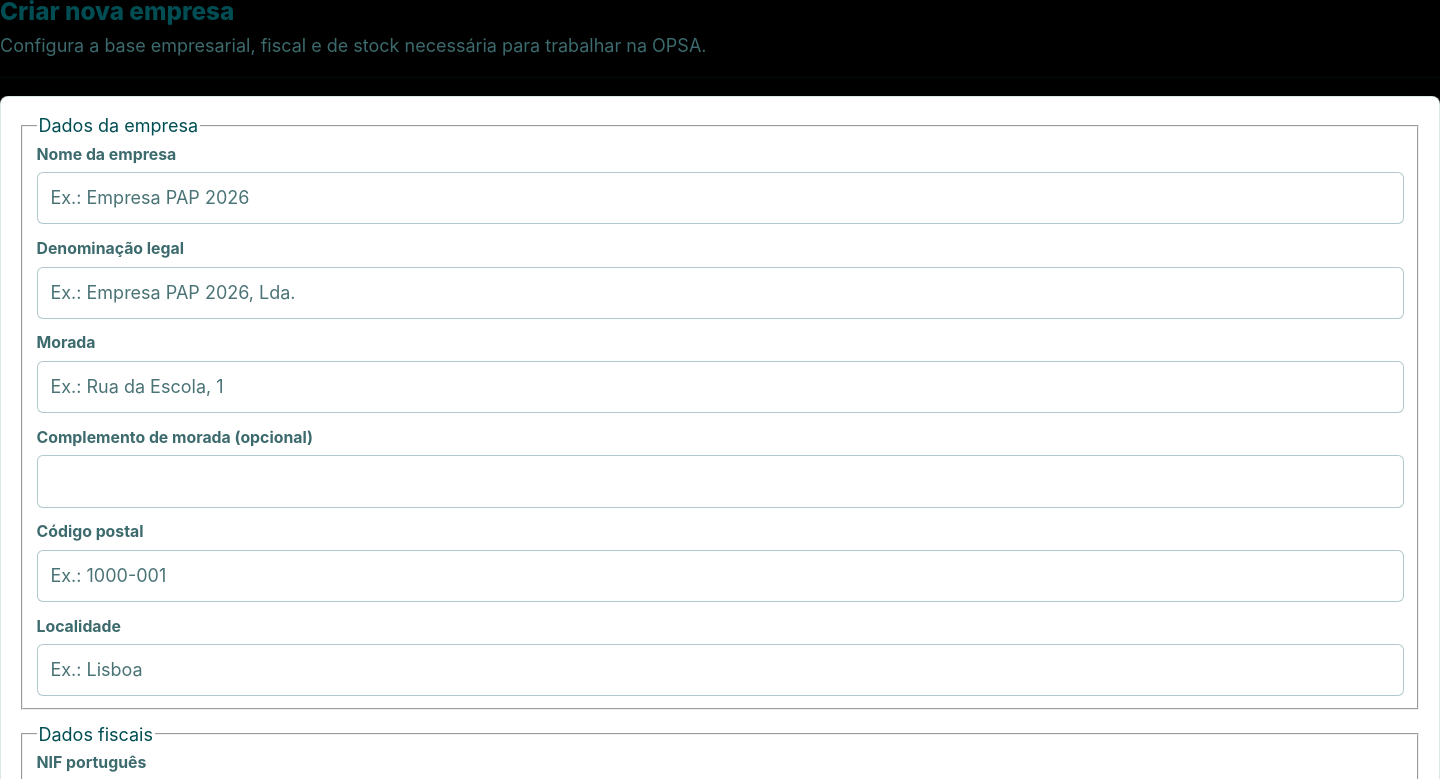
usa POST /companies no modo adicional sem preparar dados por omissão
Type "Empresa PAP 2026" into the field labelled "Nome da empresa" at (720, 198), box 36,172 -> 1404,224
Type "Empresa PAP 2026, Lda." into the field labelled "Denominação legal" at (720, 293), box 36,267 -> 1404,319
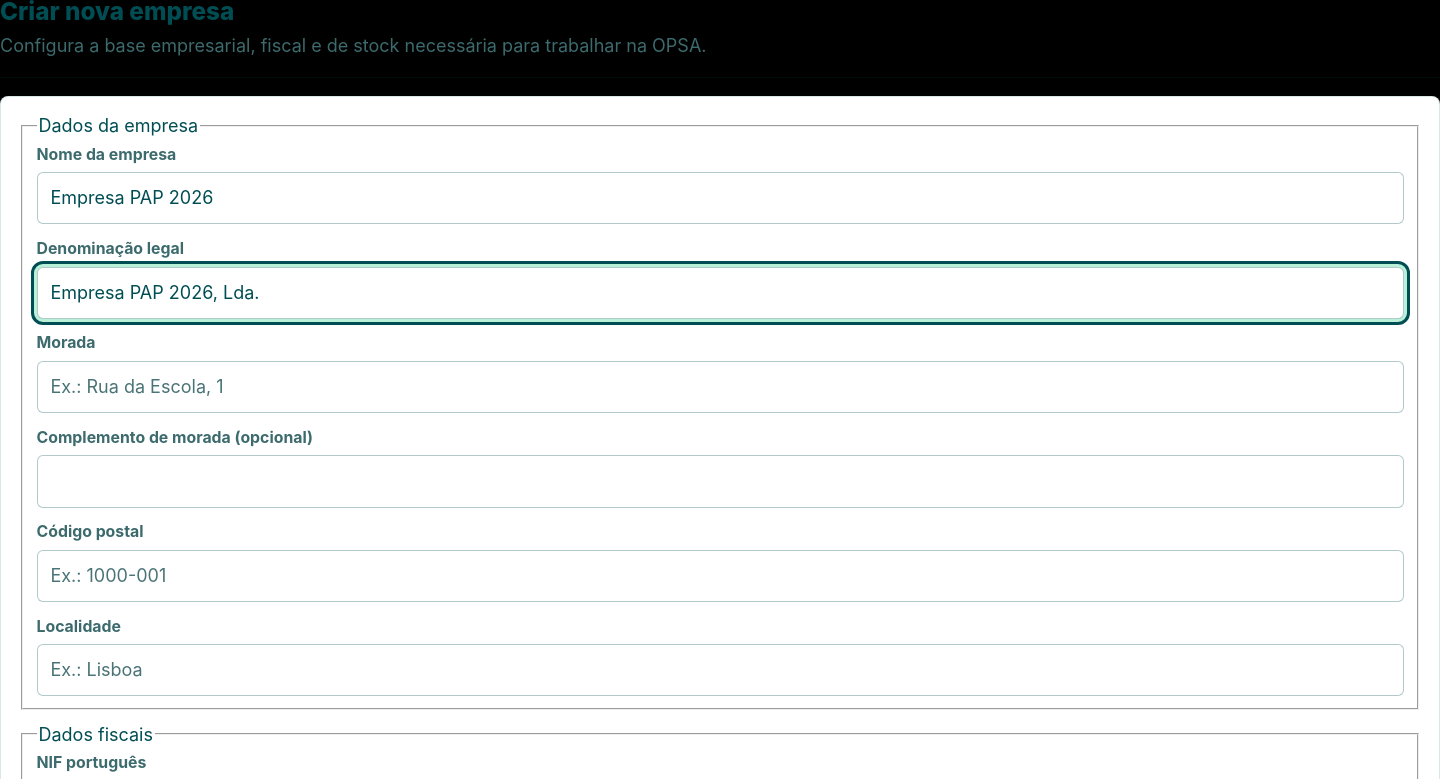
Type "Rua da Escola, 1" into the field labelled "Morada" at (720, 387), box 36,361 -> 1404,413
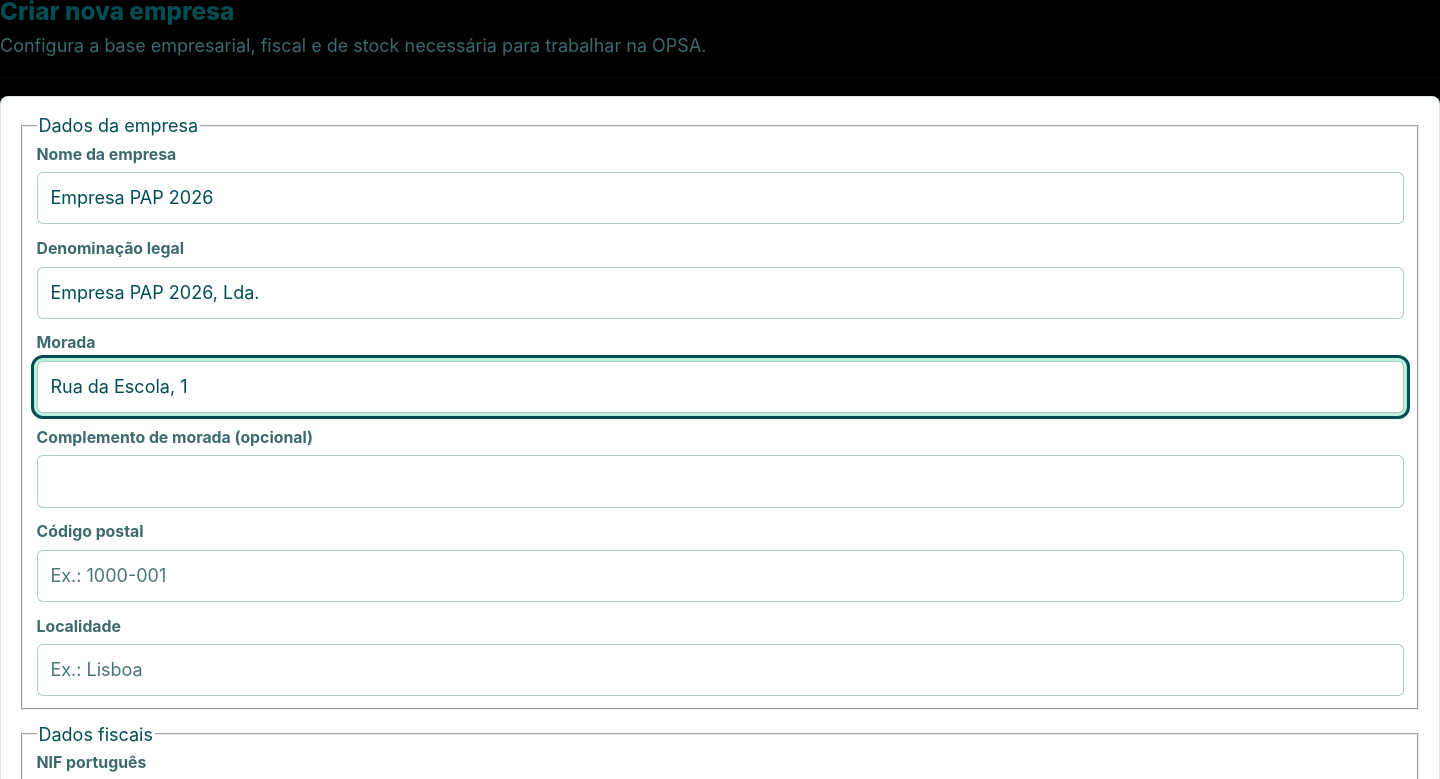
Type "1000-001" into the field labelled "Código postal" at (720, 576), box 36,550 -> 1404,602
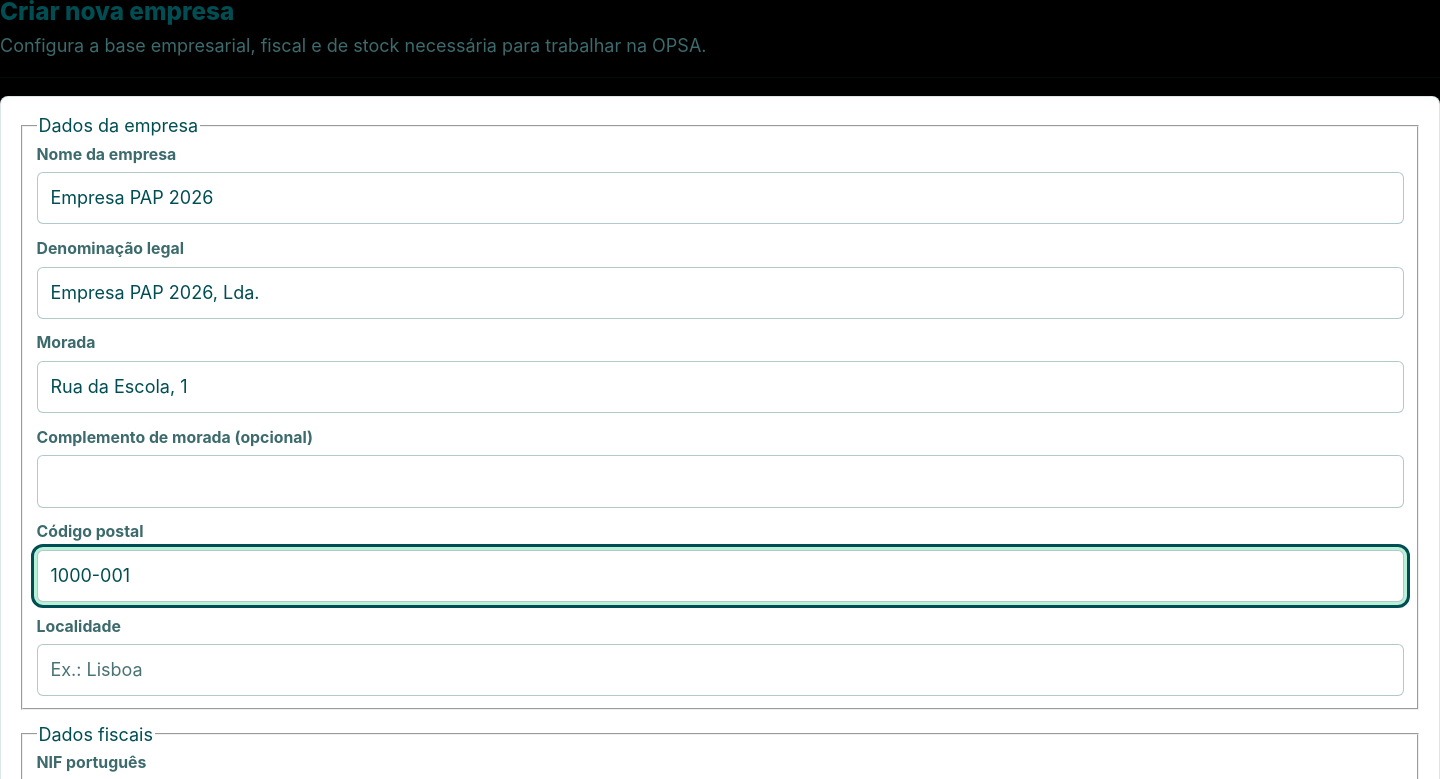
Type "Lisboa" into the field labelled "Localidade" at (720, 670), box 36,644 -> 1404,696
(page scrolled)
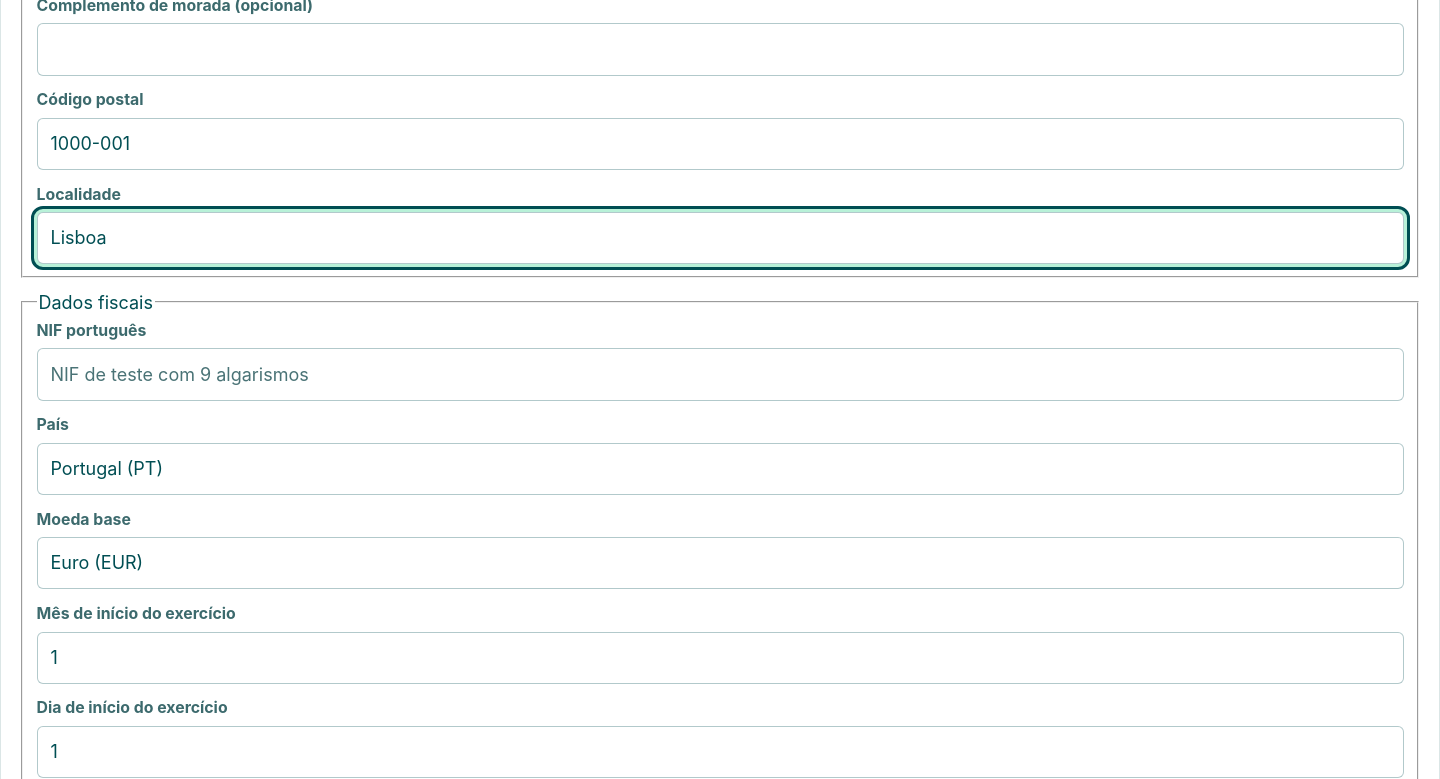
Type "509442013" into the field labelled "NIF português" at (720, 374), box 36,348 -> 1404,401
(page scrolled)
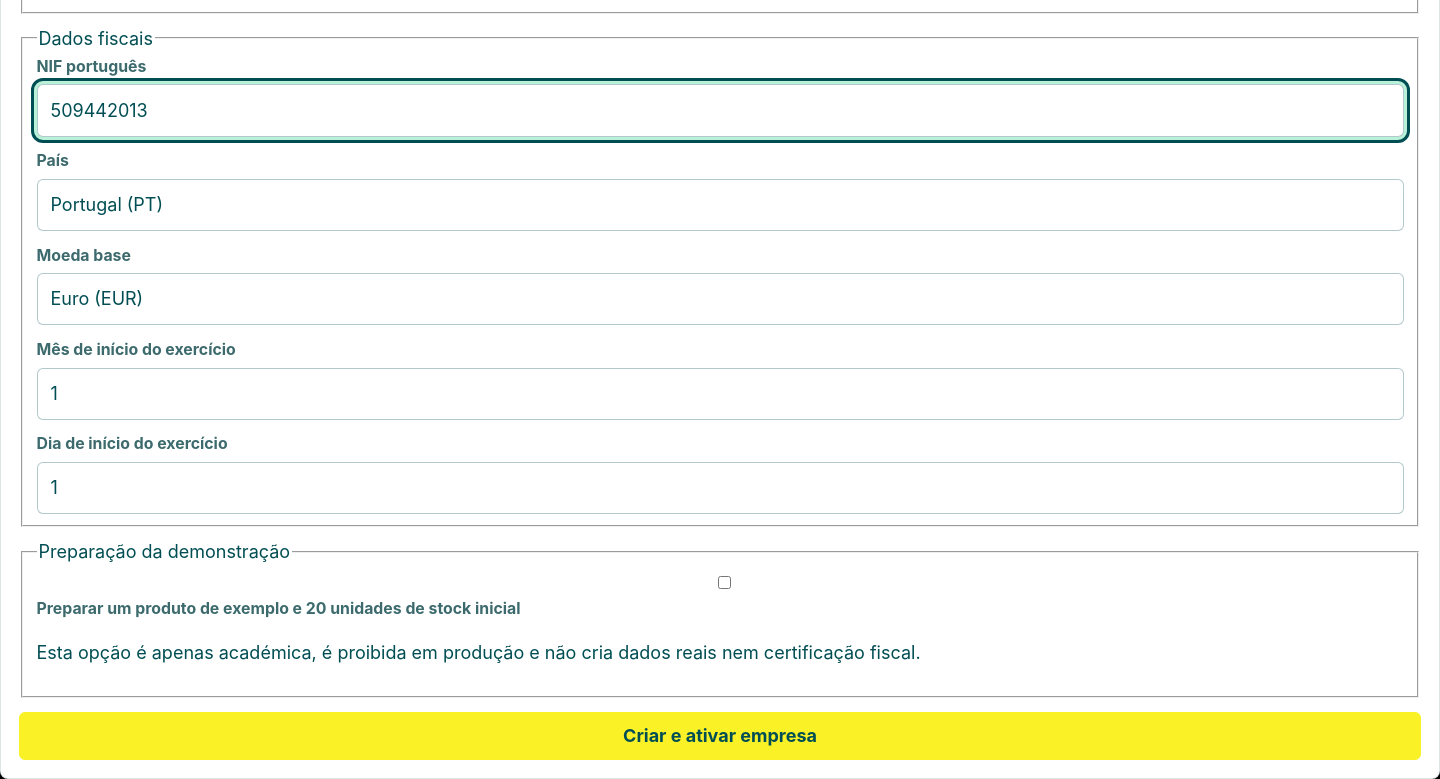
Click the button "Criar e ativar empresa" at (720, 736), box 19,712 -> 1421,760
(page scrolled)
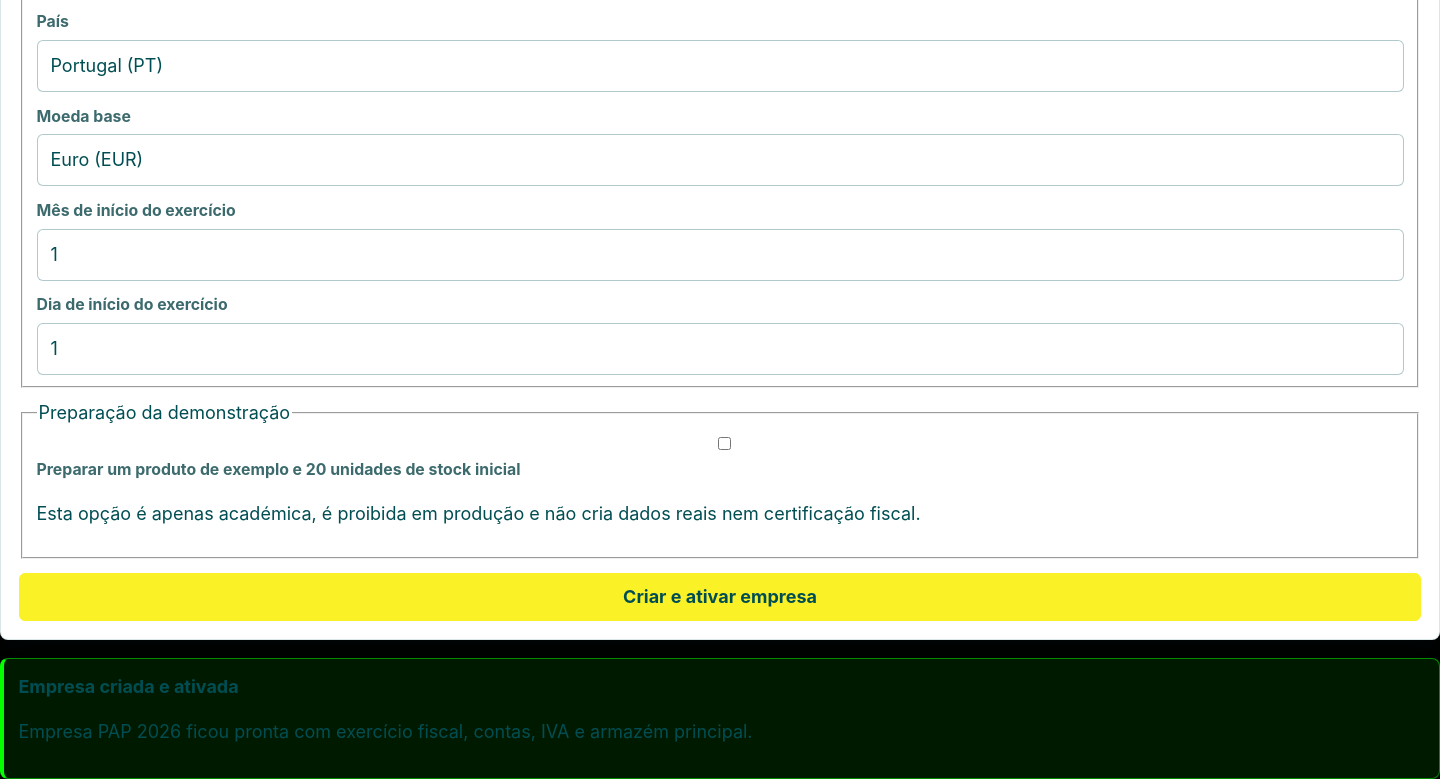
Result: the text "Empresa criada e ativada" is shown at 18,676 -> 239,697
